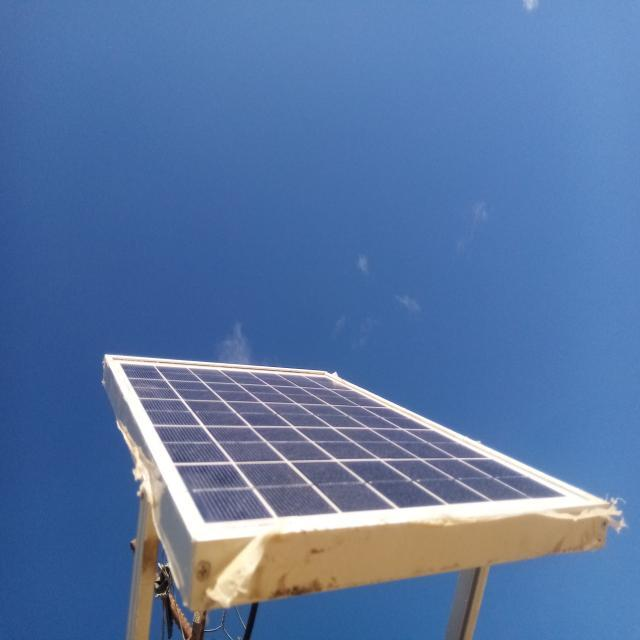no faulty: (105, 354, 609, 544)
